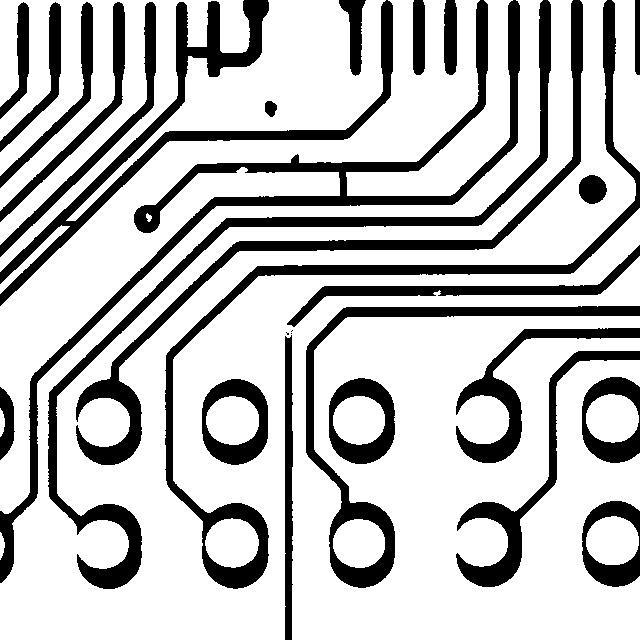copper: (255, 91, 286, 126)
mousebite: (226, 157, 257, 182), (423, 280, 450, 304)
open: (274, 315, 303, 347)
pin-hole: (136, 203, 161, 231)
short: (329, 158, 356, 207), (175, 37, 218, 67), (46, 209, 86, 236)
spur: (281, 144, 308, 175)
